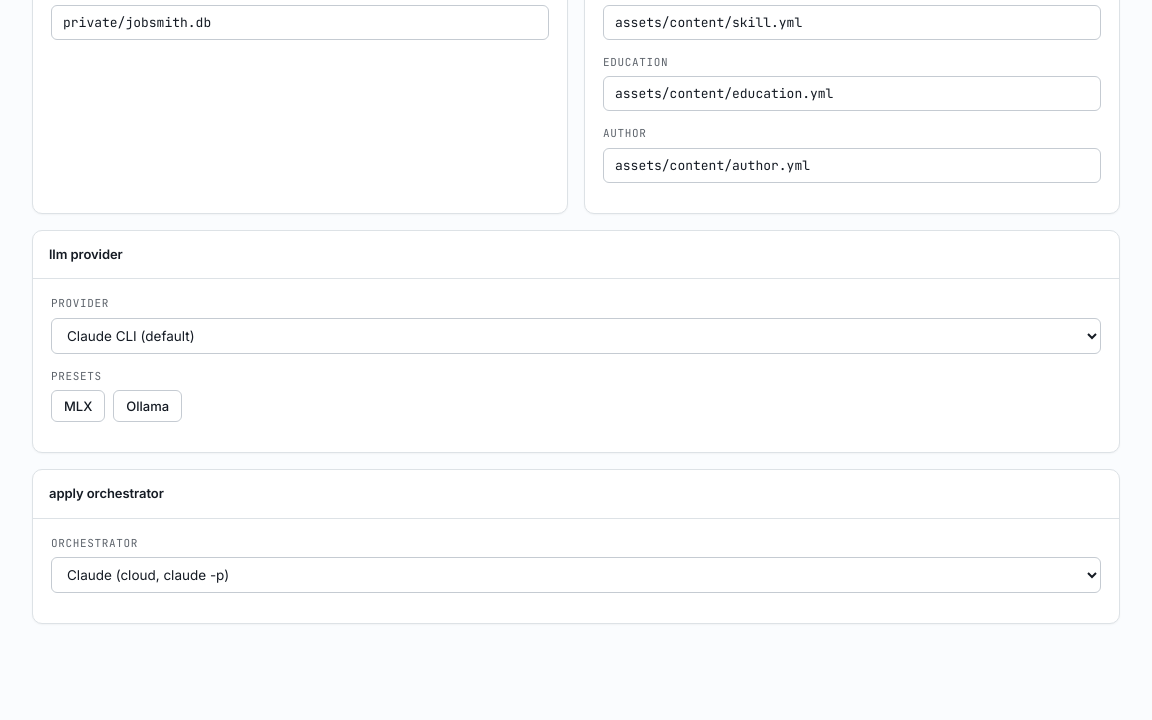
ConfigView — apply orchestrator section › node-backend inputs appear when orchestrator switches to code_local
The image size is (1152, 720).
(page scrolled)
Select "Local code driver (gemma via vllm-mlx)" in the dropdown labelled "orchestrator" at (576, 575), box [51,557,1101,593]
(page scrolled)
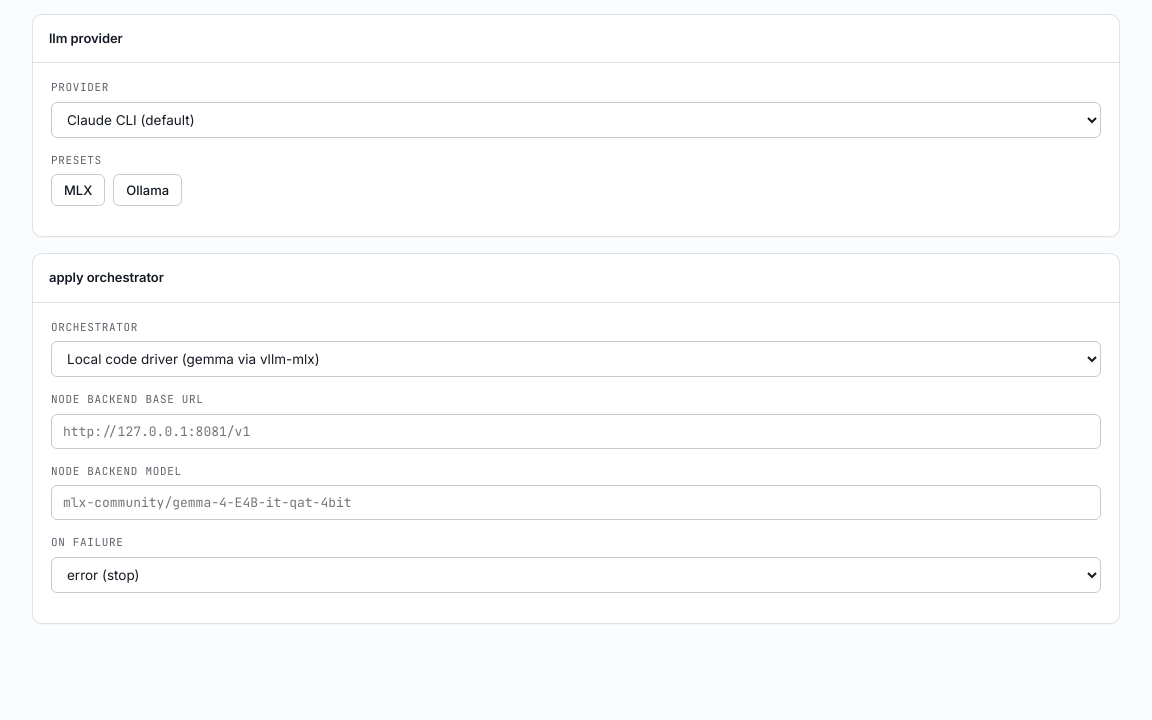
Expected: the field labelled "node backend base url" is shown, [51,414,1101,449]
Expected: the field labelled "node backend model" is shown, [51,485,1101,520]
Expected: the dropdown labelled "on failure" is shown, [51,557,1101,593]
